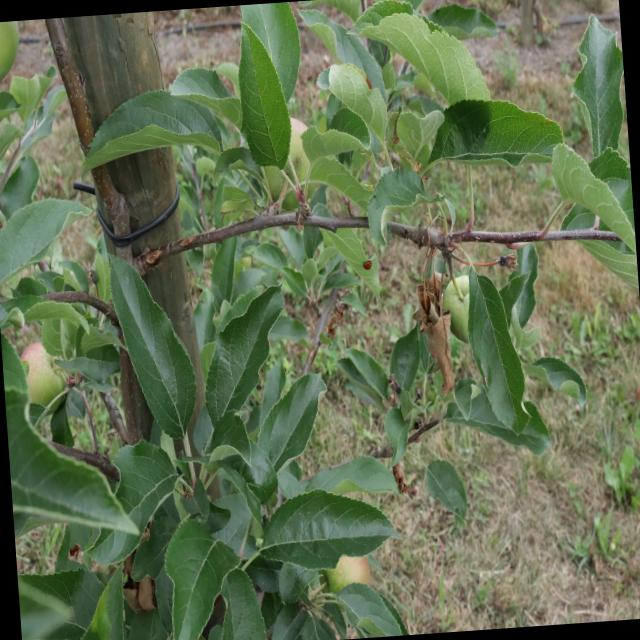-FireBlight-: (408, 245, 458, 392)
